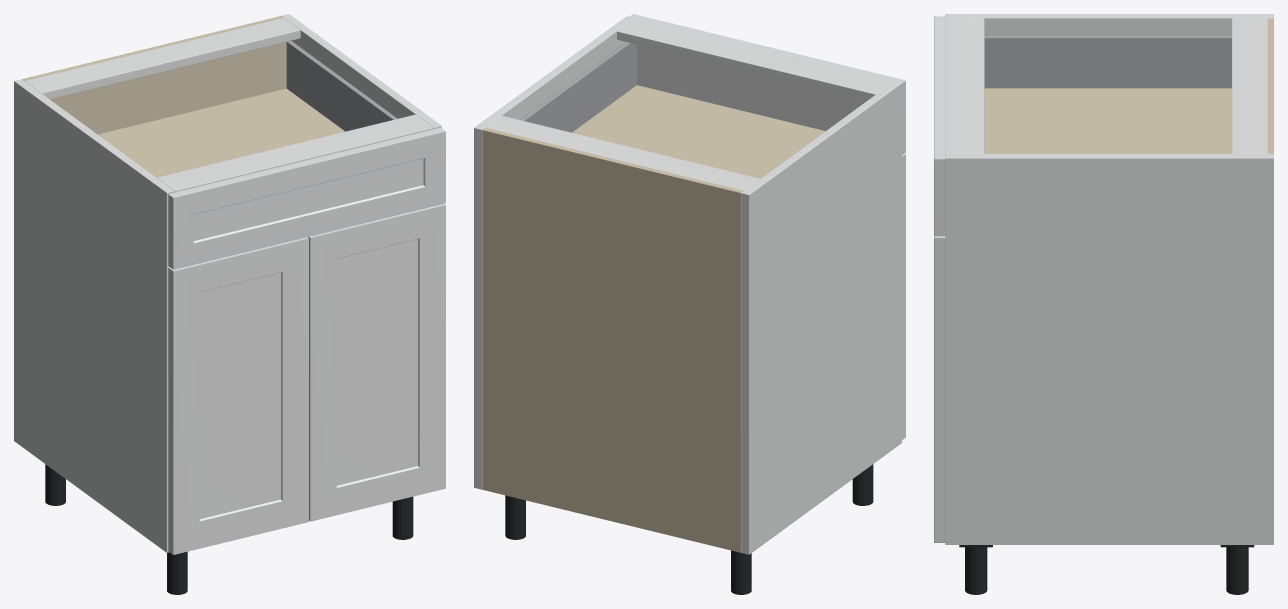
File: PLY-WSS-B24.glb
3 views of the same model, side by side, from view 1: azimuth 30°, elevation 25°; view 2: azimuth 150°, elevation 25°; view 3: azimuth 270°, elevation 25° (orthographic). The views are drawn at different scales.
Parts seen in each view (by area): view 1: Carcass left, Shaker door, Shaker door.001, Drawer front, Drawer bottom, Drawer back, Top support rail, Top support rail.001, Metal drawer side.001, Carcass right, Adjustable foot.003, Carcass back (+2 smaller); view 2: Carcass back, Carcass left, Drawer bottom, Drawer front, Top support rail.001, Carcass right, Metal drawer side.001, Top support rail, Shaker door, Adjustable foot, Adjustable foot.002, Adjustable foot.001; view 3: Carcass right, Drawer bottom, Metal drawer side, Carcass left, Top support rail.001, Top support rail, Shaker door.001, Drawer front, Adjustable foot.002, Adjustable foot.003, Carcass back.
Boxes of the visible parts, x1,y1,x2,y2 form: Carcass left: [14, 79, 174, 552]; Shaker door: [168, 237, 308, 554]; Shaker door.001: [307, 203, 445, 521]; Drawer front: [168, 127, 445, 269]; Drawer bottom: [98, 88, 344, 177]; Drawer back: [50, 42, 286, 134]; Top support rail: [25, 18, 300, 99]; Top support rail.001: [157, 114, 433, 192]; Metal drawer side.001: [286, 41, 397, 131]; Carcass right: [281, 14, 441, 128]; Adjustable foot.003: [392, 496, 413, 539]; Carcass back: [22, 16, 283, 80]; Carcass back: [482, 127, 743, 552]; Carcass left: [741, 81, 901, 554]; Drawer bottom: [572, 85, 825, 178]; Drawer front: [630, 14, 905, 154]; Top support rail.001: [617, 18, 893, 100]; Carcass right: [474, 16, 634, 489]; Metal drawer side.001: [520, 42, 636, 132]; Top support rail: [485, 115, 759, 190]; Shaker door: [902, 153, 905, 439]; Adjustable foot: [731, 550, 751, 594]; Adjustable foot.002: [505, 495, 525, 539]; Adjustable foot.001: [852, 464, 873, 505]; Carcass right: [945, 154, 1273, 544]; Drawer bottom: [984, 88, 1231, 153]; Metal drawer side: [984, 35, 1231, 88]; Carcass left: [945, 14, 1273, 35]; Top support rail.001: [945, 18, 984, 153]; Top support rail: [1232, 18, 1267, 153]; Shaker door.001: [934, 236, 945, 542]; Drawer front: [934, 16, 945, 236]; Adjustable foot.002: [1226, 547, 1248, 594]; Adjustable foot.003: [965, 547, 987, 594]; Carcass back: [1267, 18, 1273, 153].
Bounding box in the file's own units: 0.6096 × 0.8763 × 0.6064.
